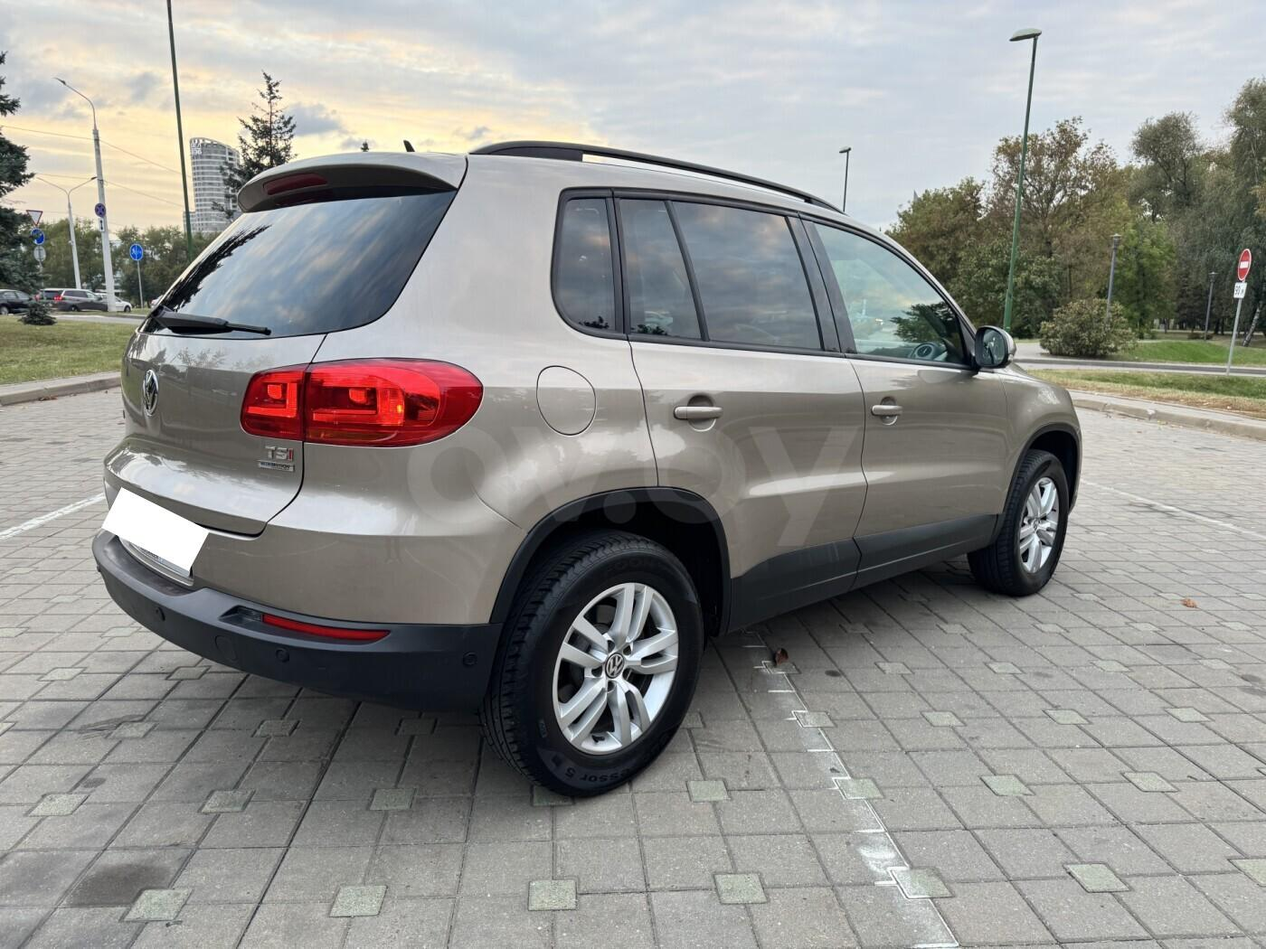Tiguan_2011-2018: (87, 137, 1088, 821)
